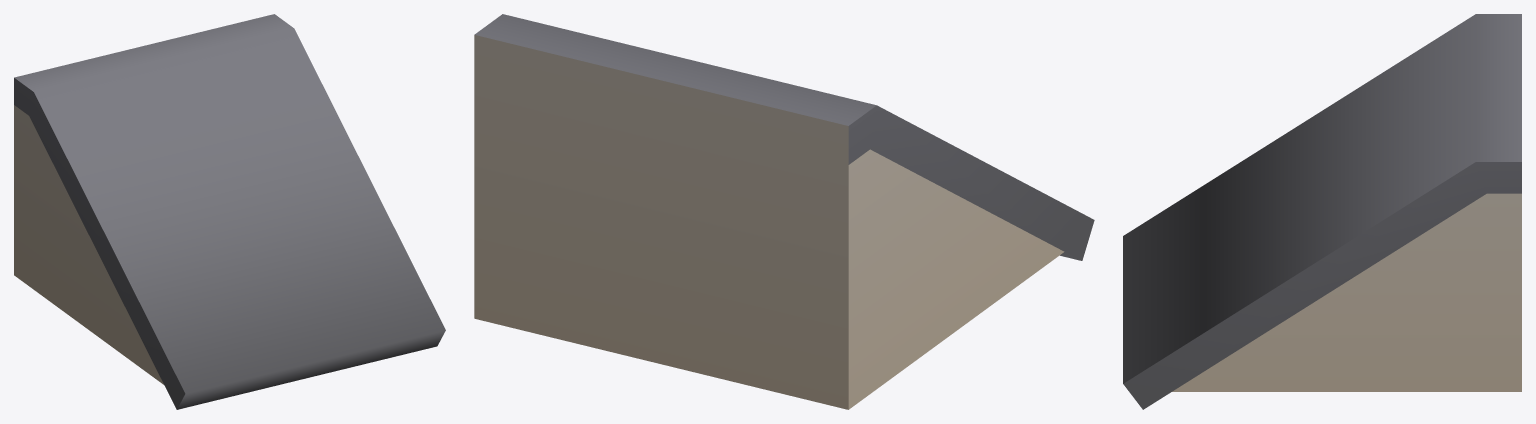
The model's file is roof-slanted.glb.
3 renders of one model, left to right at view 1: azimuth 30°, elevation 25°; view 2: azimuth 150°, elevation 25°; view 3: azimuth 270°, elevation 25°, orthographic. The views are drawn at different scales.
Parts seen in each view (by area): view 1: roof-slanted; view 2: roof-slanted; view 3: roof-slanted.
Part boxes in pixels (x1=…): roof-slanted: x1=14, y1=14, x2=445, y2=409; roof-slanted: x1=474, y1=14, x2=1094, y2=409; roof-slanted: x1=1123, y1=14, x2=1521, y2=409.
Size of the model in its own units: 1 by 0.782 by 1.14.
